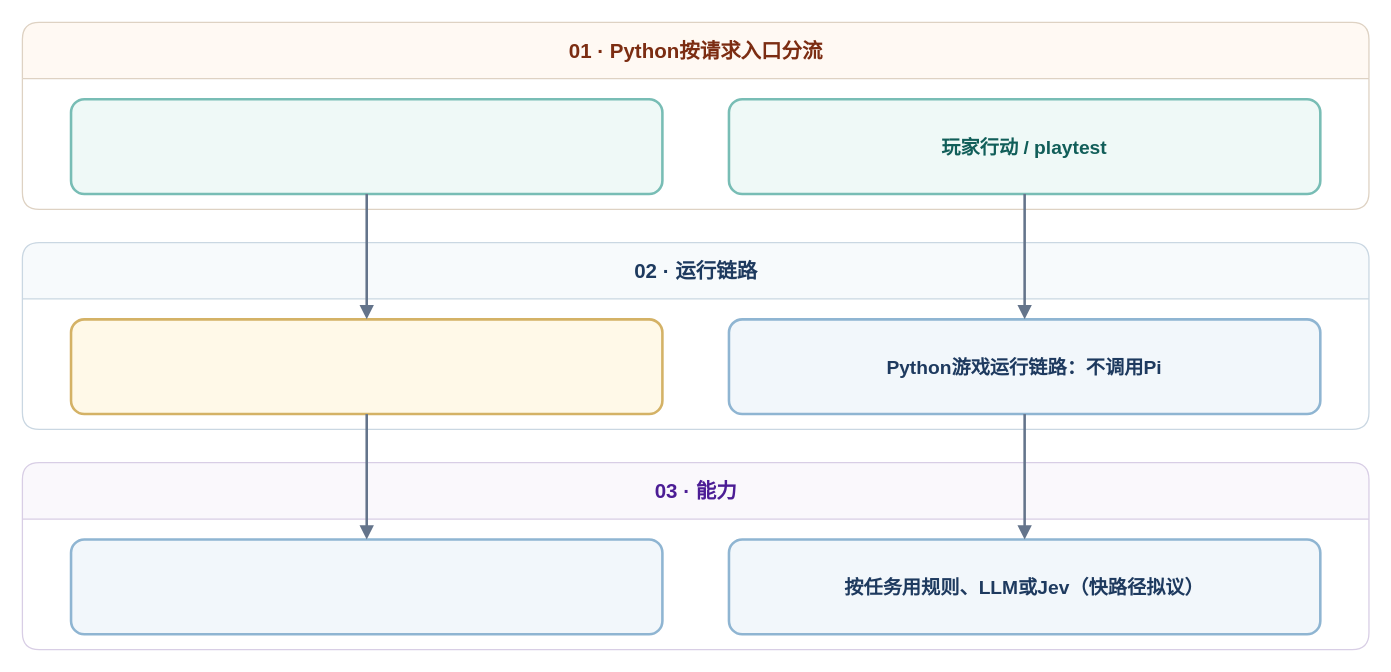
This 1391x672 diagram has some shape labels left out. The shapes that lost their labels are listed below. From the top down, each one's centre as x and y in pixels, then its label:
At pixel 366 146: "设计指令 / conversations".
At pixel 366 366: "Node中的Pi循环：理解与计划".
At pixel 366 586: "现有Skill、队列与领域角色模型".
